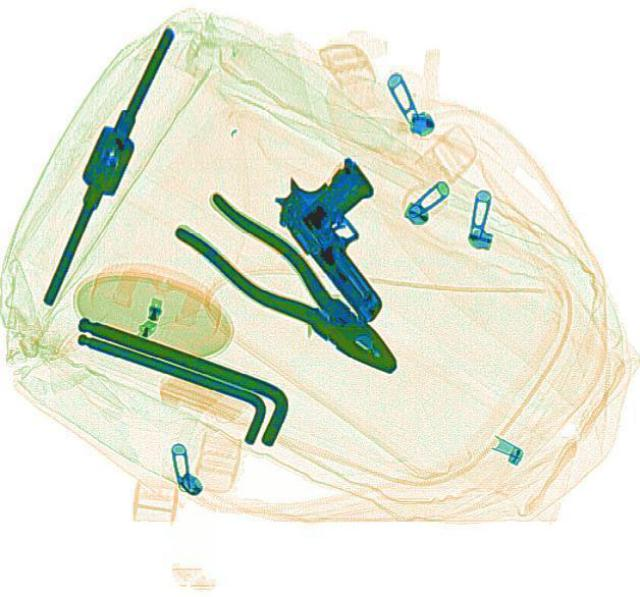Gun: (256, 147, 444, 326)
Pliers: (169, 186, 419, 389)
